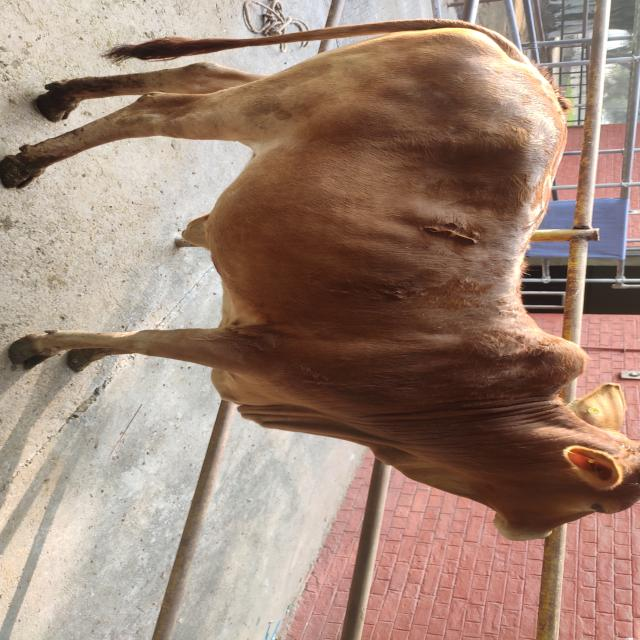cow: (2, 18, 638, 541)
hump: (539, 331, 589, 393)
